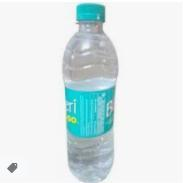bottle: (61, 2, 120, 183)
